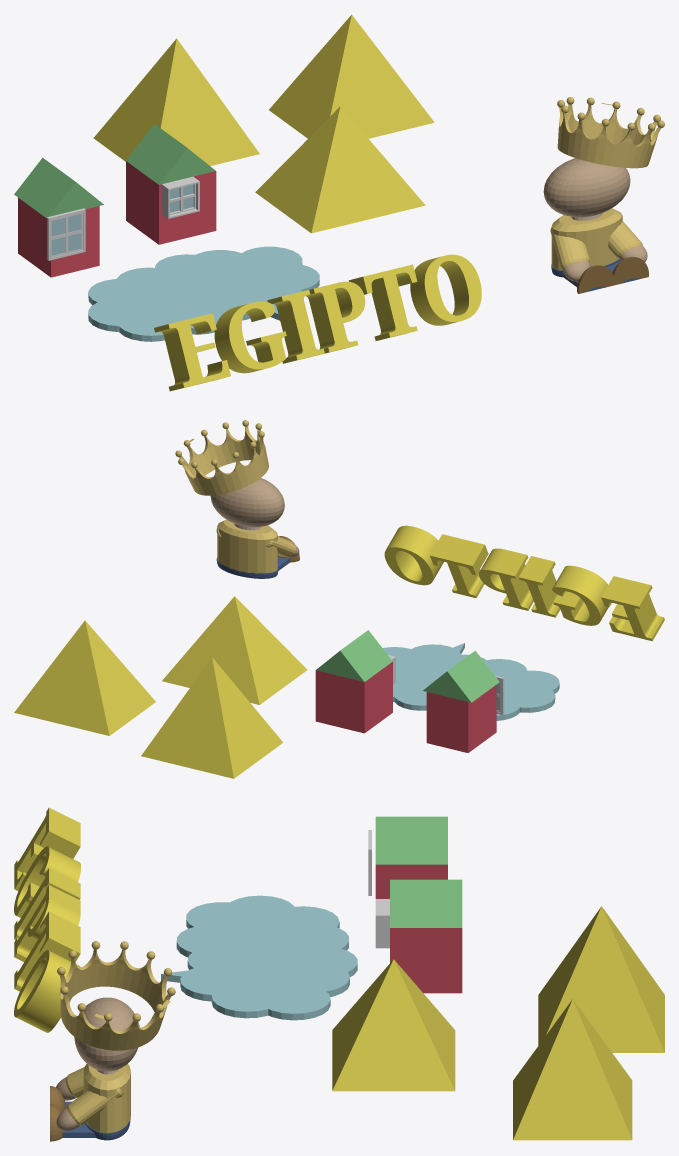
The model's file is Egipto.glb.
3 views of the same model, one above another, from view 1: azimuth 30°, elevation 25°; view 2: azimuth 150°, elevation 25°; view 3: azimuth 270°, elevation 25° (orthographic). The views are drawn at different scales.
Visible parts, largest first — view 1: Mesh_Mesh_head_geo.001_lambert2SG.001; view 2: Mesh_Mesh_head_geo.001_lambert2SG.001; view 3: Mesh_Mesh_head_geo.001_lambert2SG.001.
Part boxes in pixels (box(x1,y1,x2,y2)): Mesh_Mesh_head_geo.001_lambert2SG.001: box(14, 14, 664, 391); Mesh_Mesh_head_geo.001_lambert2SG.001: box(14, 420, 664, 778); Mesh_Mesh_head_geo.001_lambert2SG.001: box(14, 807, 664, 1141).
Bounding box in the file's own units: 0.1813 × 0.0554 × 0.18.
